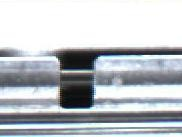oneu: (48, 49, 105, 113)
